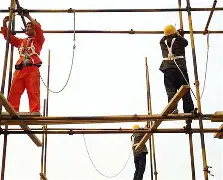safety belt: (158, 42, 188, 63), (20, 38, 43, 64), (126, 134, 146, 150)
